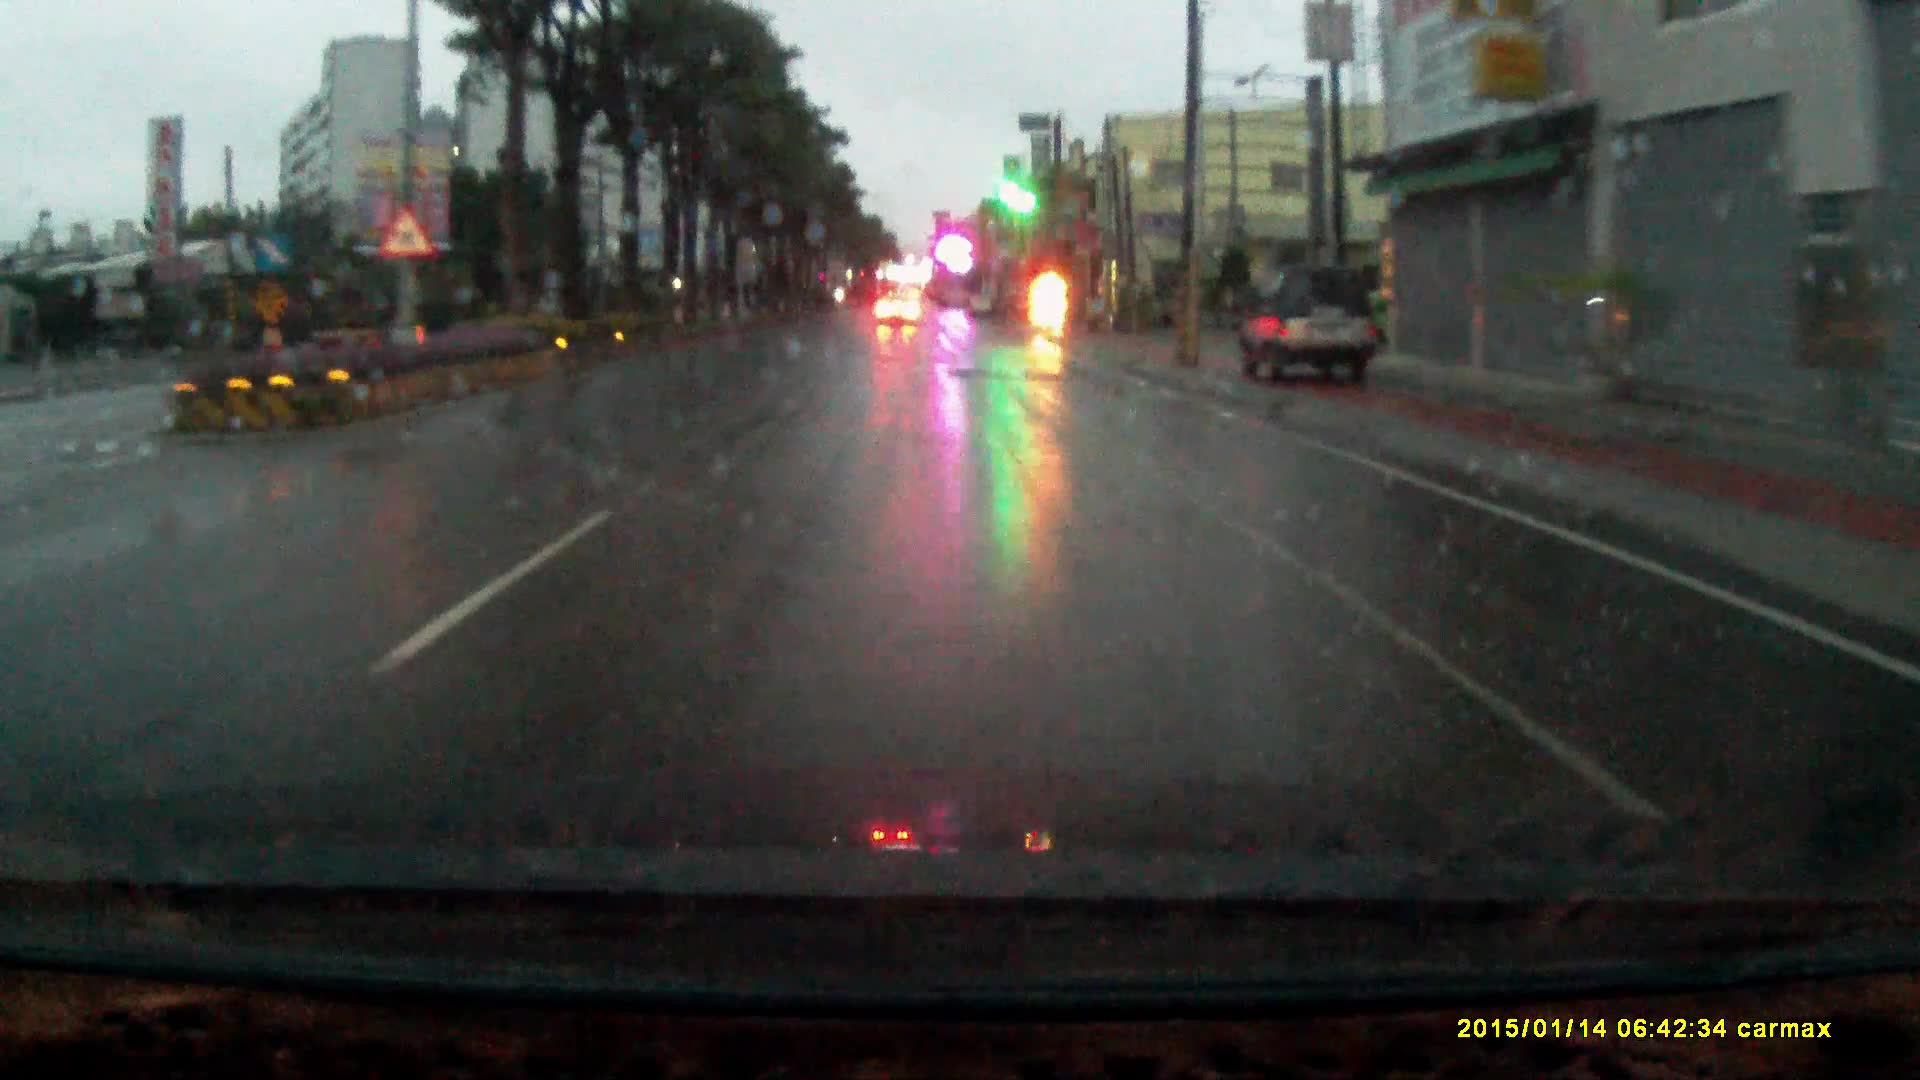vehicle: (1236, 264, 1390, 392), (874, 286, 920, 323)
